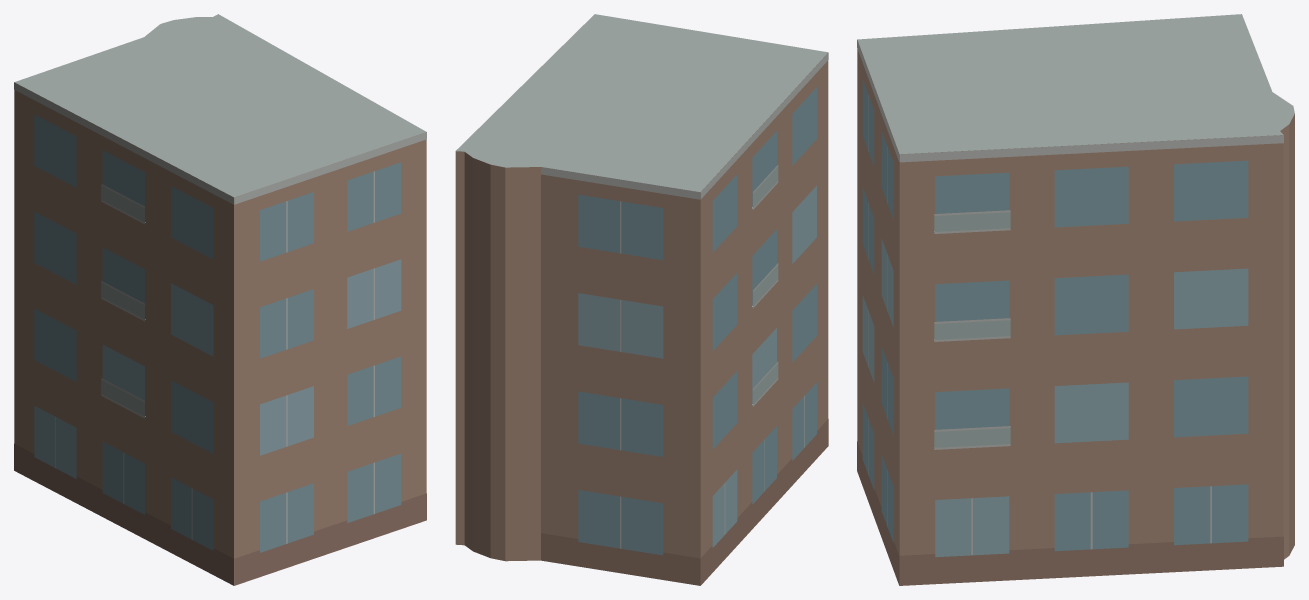
File: survey-upis-32743943.glb
3 renders of one model, left to right at view 1: azimuth 30°, elevation 25°; view 2: azimuth 150°, elevation 25°; view 3: azimuth 270°, elevation 25°, orthographic. The views are drawn at different scales.
Parts seen in each view (by area): view 1: survey-upis-32743943.tmp; view 2: survey-upis-32743943.tmp; view 3: survey-upis-32743943.tmp.
Part boxes in pixels (<box>): survey-upis-32743943.tmp: <box>14,14,426,585</box>; survey-upis-32743943.tmp: <box>455,14,828,585</box>; survey-upis-32743943.tmp: <box>857,14,1294,585</box>.
Bounding box in the file's own units: 8.93 × 12.8 × 11.77.
